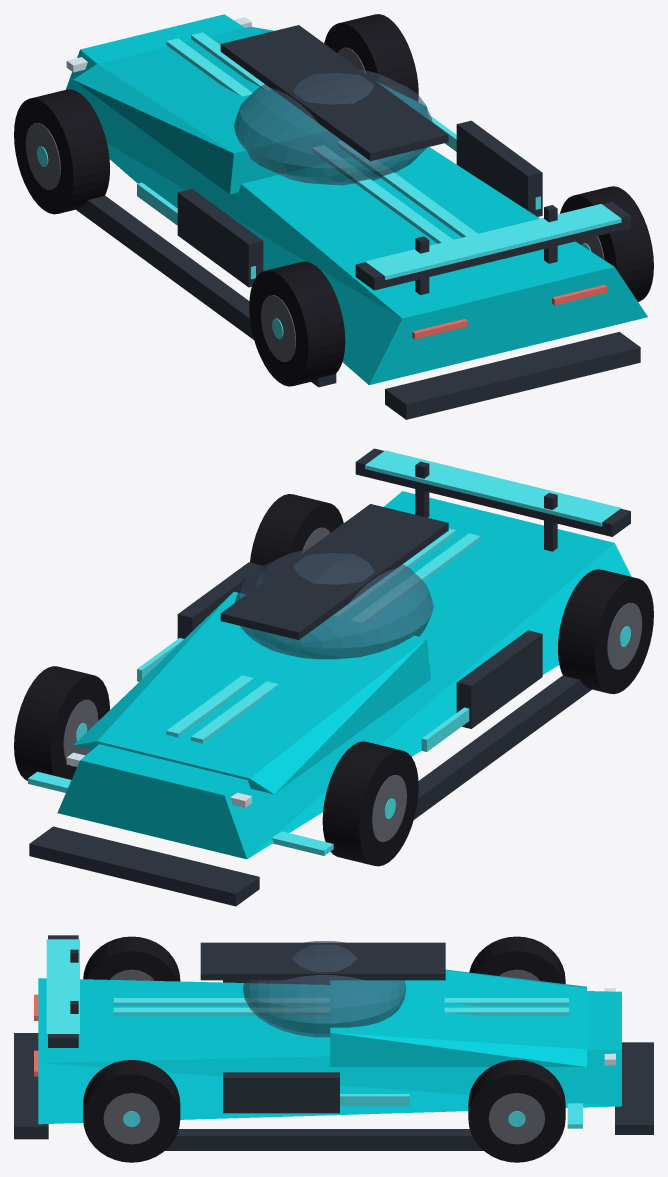
The model's file is velocity.glb.
3 views of the same model, one above another, from view 1: azimuth 30°, elevation 25°; view 2: azimuth 150°, elevation 25°; view 3: azimuth 270°, elevation 25° (orthographic). The views are drawn at different scales.
Parts seen in each view (by area): view 1: body_chassis, hood_slope, carbon_roof_spine, dark_cockpit_canopy, rear_diffuser, left_rear_tire, left_front_tire, left_side_skirt, rear_spoiler_accent, left_side_intake, right_front_tire, right_side_intake (+7 smaller); view 2: body_chassis, hood_slope, carbon_roof_spine, dark_cockpit_canopy, left_front_tire, left_rear_tire, front_splitter, right_front_tire, left_side_skirt, rear_spoiler_accent, left_side_intake, right_rear_tire (+9 smaller); view 3: body_chassis, hood_slope, carbon_roof_spine, dark_cockpit_canopy, right_side_skirt, right_front_tire, right_rear_tire, right_side_intake, front_splitter, left_rear_tire, rear_spoiler_accent, left_front_tire (+10 smaller).
Part boxes in pixels (x1=…): body_chassis: x1=66, y1=14, x2=647, y2=384; hood_slope: x1=73, y1=26, x2=427, y2=194; carbon_roof_spine: x1=220, y1=25, x2=448, y2=161; dark_cockpit_canopy: x1=234, y1=69, x2=432, y2=185; rear_diffuser: x1=385, y1=332, x2=640, y2=419; left_rear_tire: x1=249, y1=261, x2=345, y2=386; left_front_tire: x1=14, y1=89, x2=109, y2=214; left_side_skirt: x1=76, y1=195, x2=336, y2=387; rear_spoiler_accent: x1=365, y1=204, x2=621, y2=279; left_side_intake: x1=177, y1=189, x2=263, y2=287; right_front_tire: x1=324, y1=14, x2=418, y2=101; right_side_intake: x1=456, y1=120, x2=542, y2=216; body_chassis: x1=57, y1=491, x2=631, y2=859; hood_slope: x1=73, y1=591, x2=430, y2=794; carbon_roof_spine: x1=220, y1=504, x2=448, y2=639; dark_cockpit_canopy: x1=235, y1=549, x2=433, y2=659; left_front_tire: x1=322, y1=741, x2=418, y2=866; left_rear_tire: x1=558, y1=569, x2=653, y2=694; front_splitter: x1=29, y1=826, x2=259, y2=906; right_front_tire: x1=14, y1=666, x2=109, y2=780; left_side_skirt: x1=414, y1=675, x2=591, y2=819; rear_spoiler_accent: x1=365, y1=450, x2=621, y2=526; left_side_intake: x1=456, y1=630, x2=542, y2=728; right_rear_tire: x1=250, y1=494, x2=343, y2=581; body_chassis: x1=38, y1=978, x2=621, y2=1124; hood_slope: x1=330, y1=969, x2=586, y2=1066; carbon_roof_spine: x1=200, y1=942, x2=445, y2=980; dark_cockpit_canopy: x1=243, y1=941, x2=406, y2=1037; right_side_skirt: x1=165, y1=1129, x2=483, y2=1150; right_front_tire: x1=468, y1=1060, x2=565, y2=1162; right_rear_tire: x1=83, y1=1060, x2=180, y2=1162; right_side_intake: x1=223, y1=1072, x2=339, y2=1113; front_splitter: x1=615, y1=1042, x2=653, y2=1134; left_rear_tire: x1=83, y1=936, x2=180, y2=981; rear_spoiler_accent: x1=46, y1=939, x2=79, y2=1036; left_front_tire: x1=469, y1=936, x2=565, y2=983.
Size of the model in its own units: 2.37 by 1.1 by 4.61.
